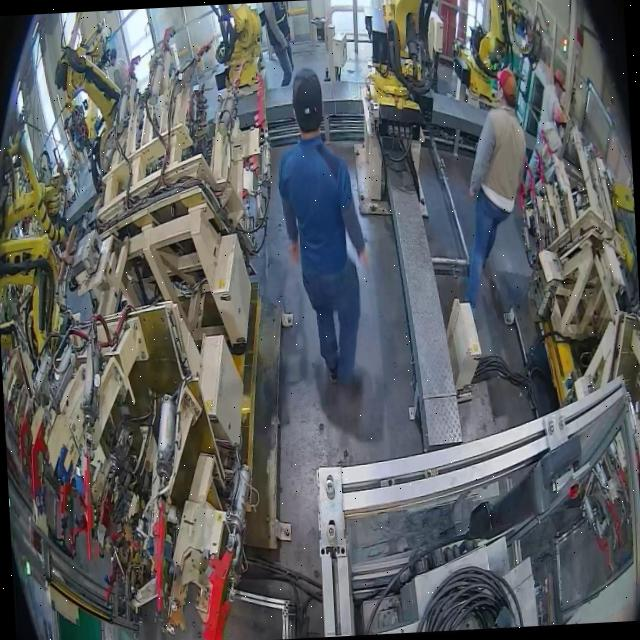Person: (272, 64, 376, 390), (453, 67, 535, 320), (518, 68, 572, 197), (262, 2, 294, 88)
